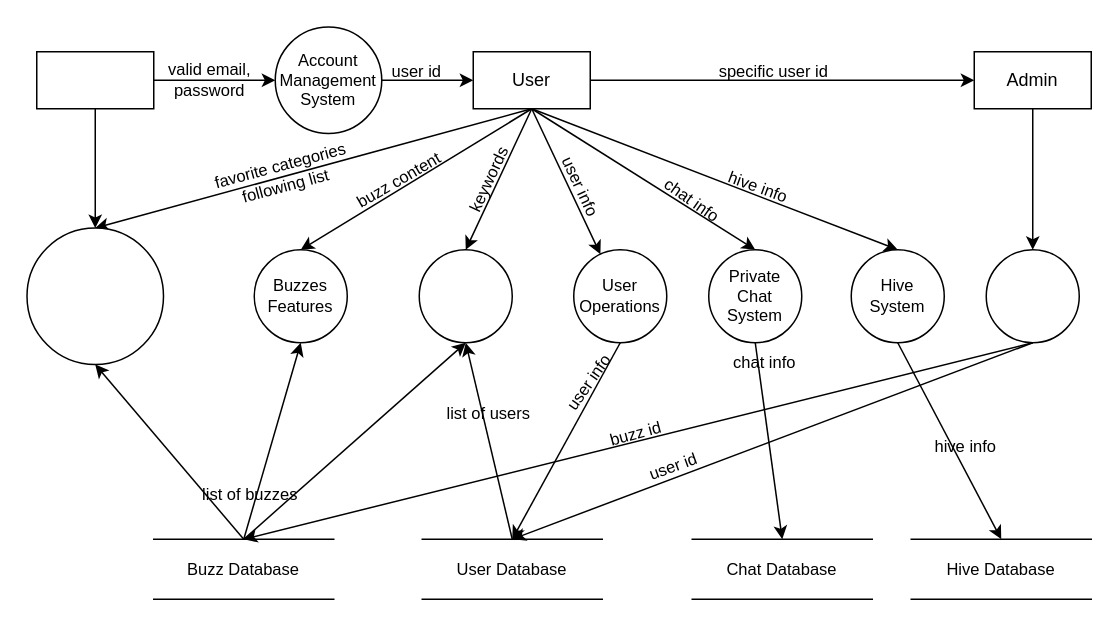
Some shapes in this 1118 by 626 pixel diagram are drawn without their labels. The centre of each missing label's shape, as x and y in pixels:
Admin Operations: (x=1032, y=295)
Recommendation System: (x=95, y=295)
Searching System: (x=465, y=295)
Visitor: (x=94, y=79)
